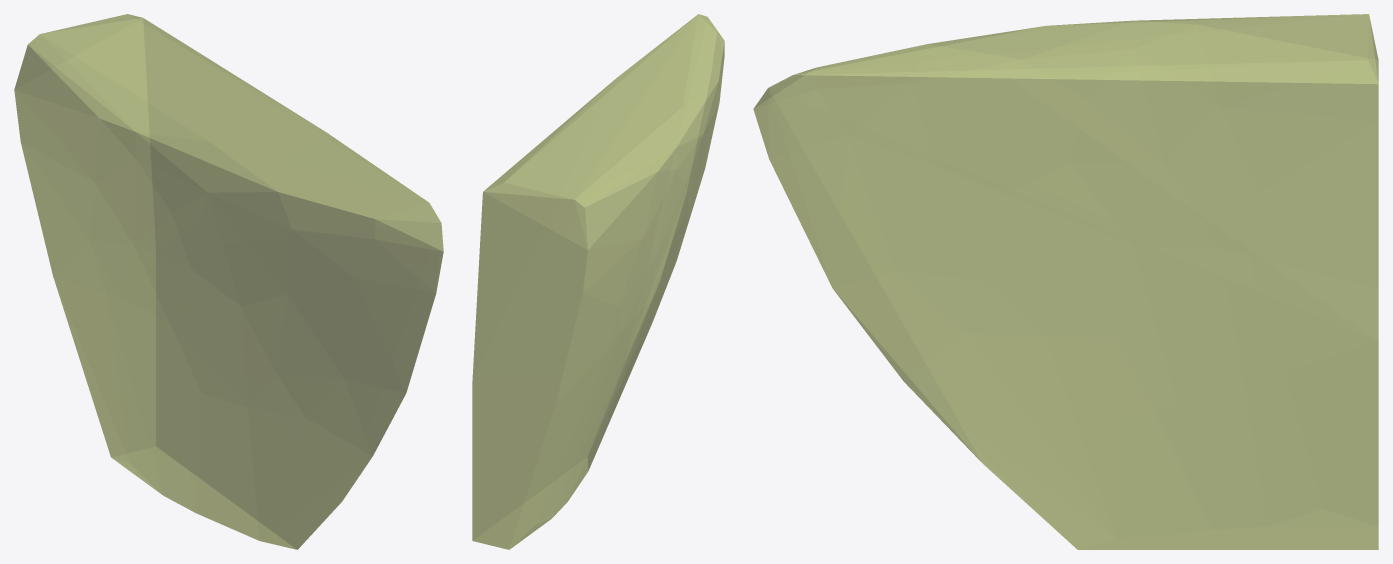
The picture shows the model from 3 angles, left to right: view 1: azimuth 30°, elevation 25°; view 2: azimuth 150°, elevation 25°; view 3: azimuth 270°, elevation 25°; orthographic projection. The views are drawn at different scales.
Parts seen in each view (by area): view 1: Shape_IndexedFaceSet.002_Shape_IndexedFaceSet.5904; view 2: Shape_IndexedFaceSet.002_Shape_IndexedFaceSet.5904; view 3: Shape_IndexedFaceSet.002_Shape_IndexedFaceSet.5904.
Part boxes in pixels (x1,y1,x2,y2): Shape_IndexedFaceSet.002_Shape_IndexedFaceSet.5904: (14, 14, 443, 549); Shape_IndexedFaceSet.002_Shape_IndexedFaceSet.5904: (472, 14, 724, 549); Shape_IndexedFaceSet.002_Shape_IndexedFaceSet.5904: (753, 14, 1378, 549).
Bounding box in the file's own units: 0.2089 × 0.6272 × 0.75.
